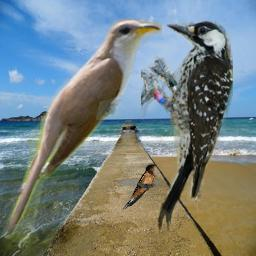Cuckoo: (0, 19, 162, 243)
Swallow: (121, 163, 157, 210)
Woodpecker: (141, 21, 233, 231)
